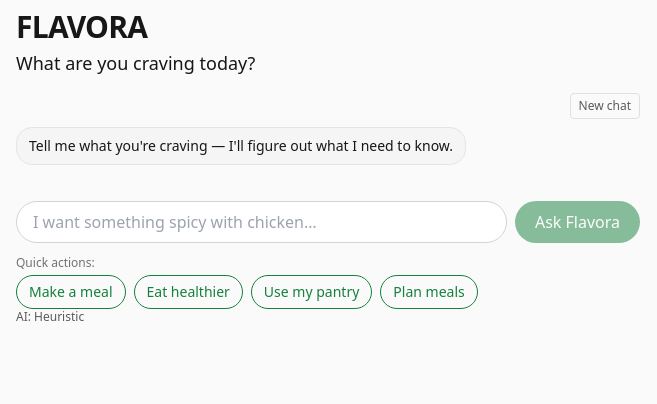
it: Home conversational flow › new chat resets the session
The width and height of the screenshot is (657, 404).
In the field named "Tell Flavora what you want": (261, 222) 16,201 -> 507,243, type "I want something with chicken"
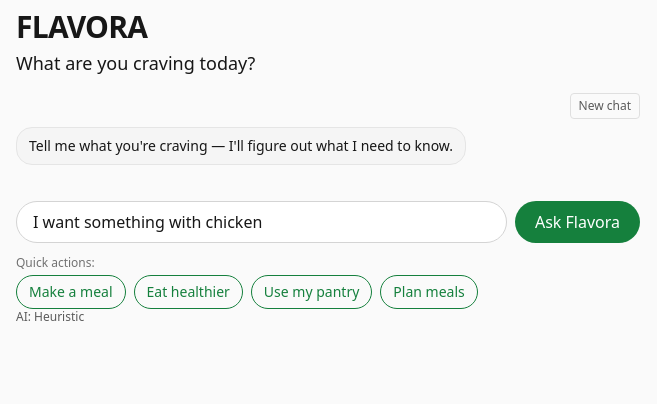
Click the button "Ask Flavora": click(577, 222) 515,201 -> 640,243
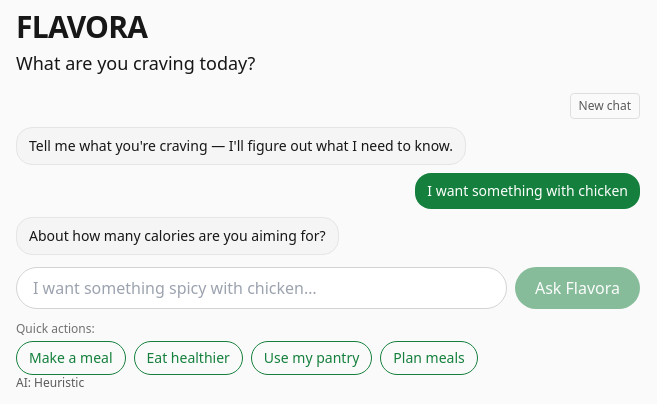
Expected: the text "About how many calories are you aiming for?" is shown, 16,217 -> 338,255
Click the button named "Start a new conversation": click(605, 106) 570,93 -> 640,119
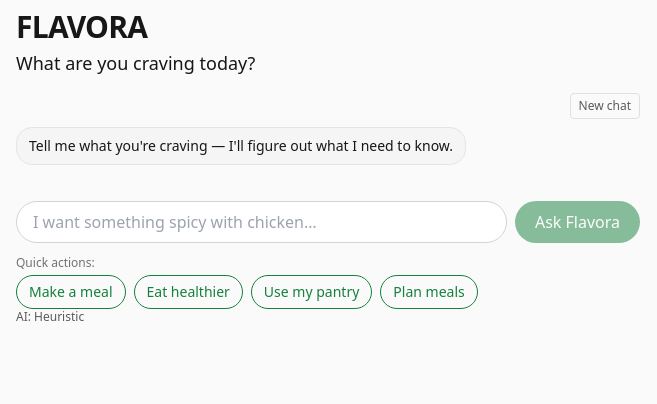
Expected: the text "About how many calories are you aiming for?" is gone
